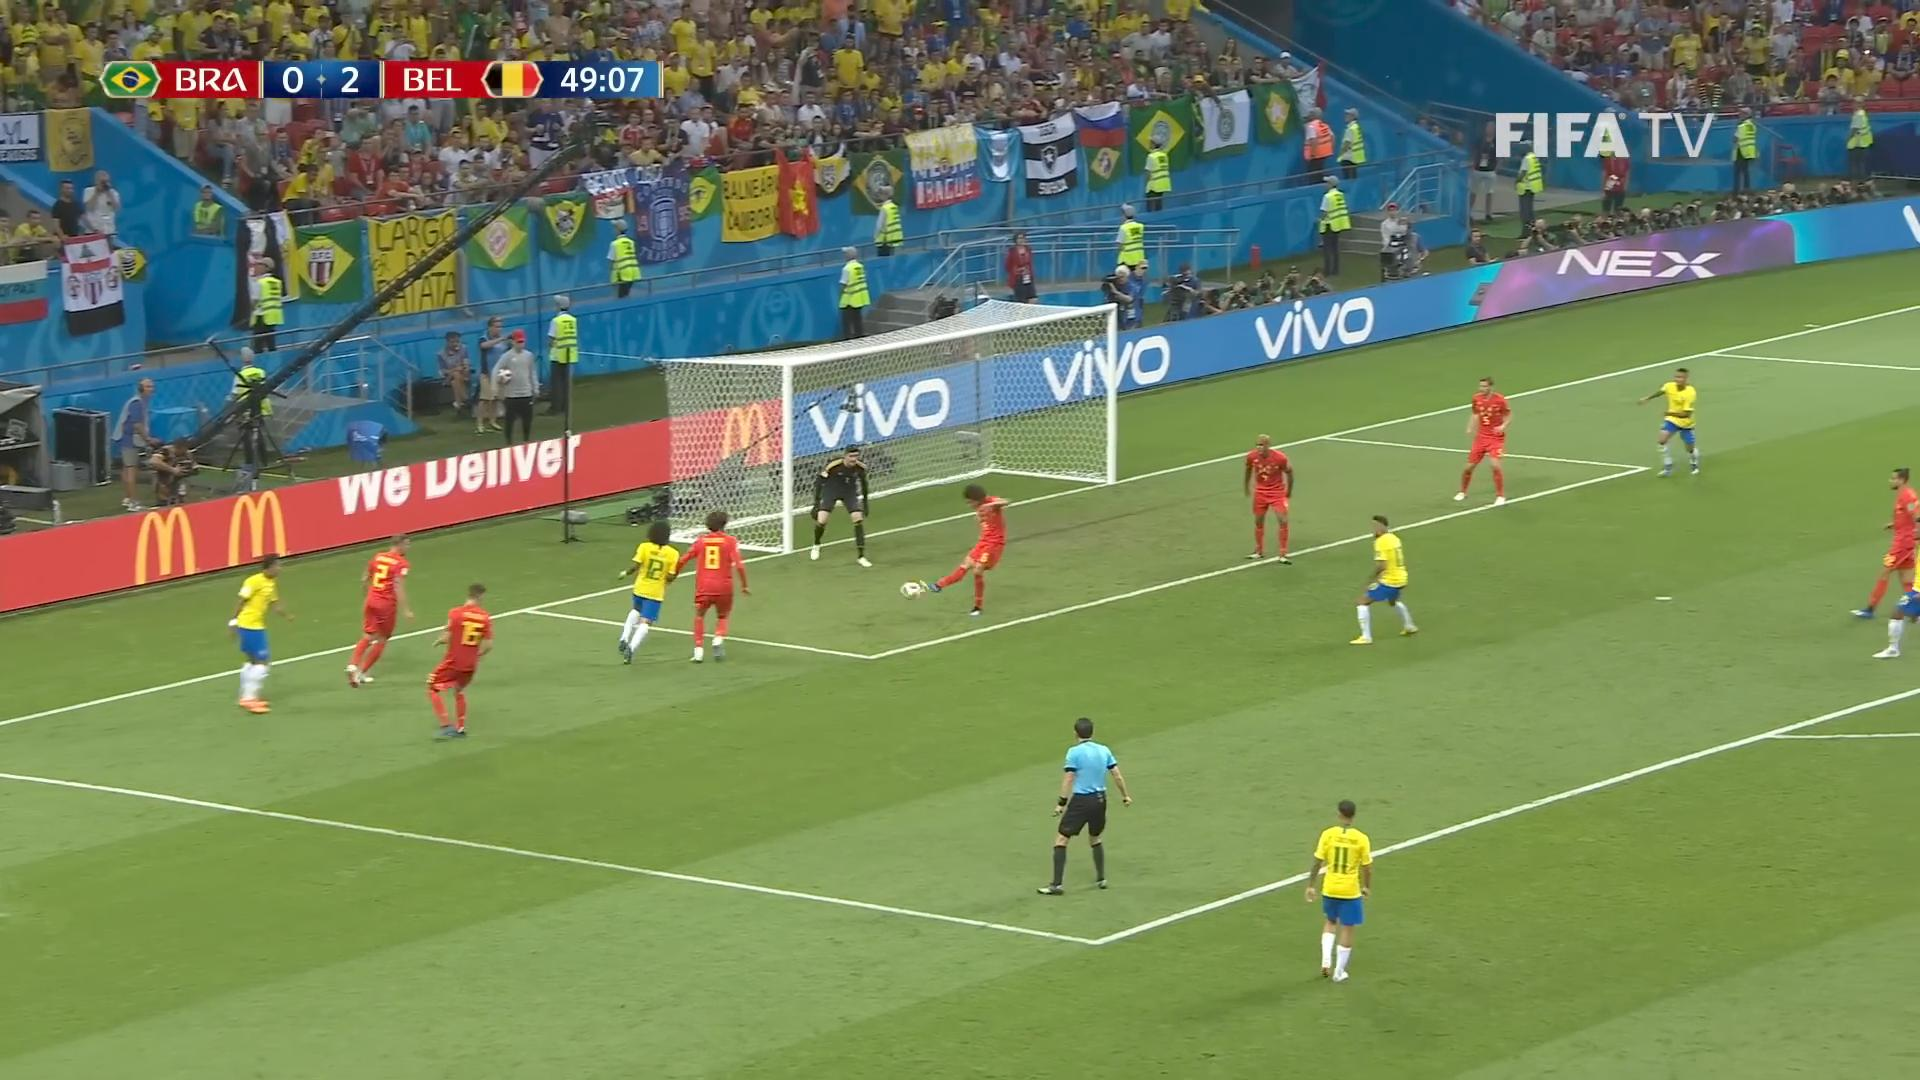ball: (901, 581, 920, 601)
goalkeeper: (807, 443, 874, 567)
player: (1303, 798, 1373, 982), (917, 482, 1009, 616), (673, 508, 751, 663), (225, 552, 296, 713), (343, 531, 414, 688), (425, 581, 494, 739), (1850, 465, 1918, 620), (614, 518, 679, 665), (1348, 513, 1418, 644), (1452, 375, 1512, 506), (1636, 365, 1700, 477), (1242, 432, 1294, 564)
referee: (1035, 715, 1132, 894)
